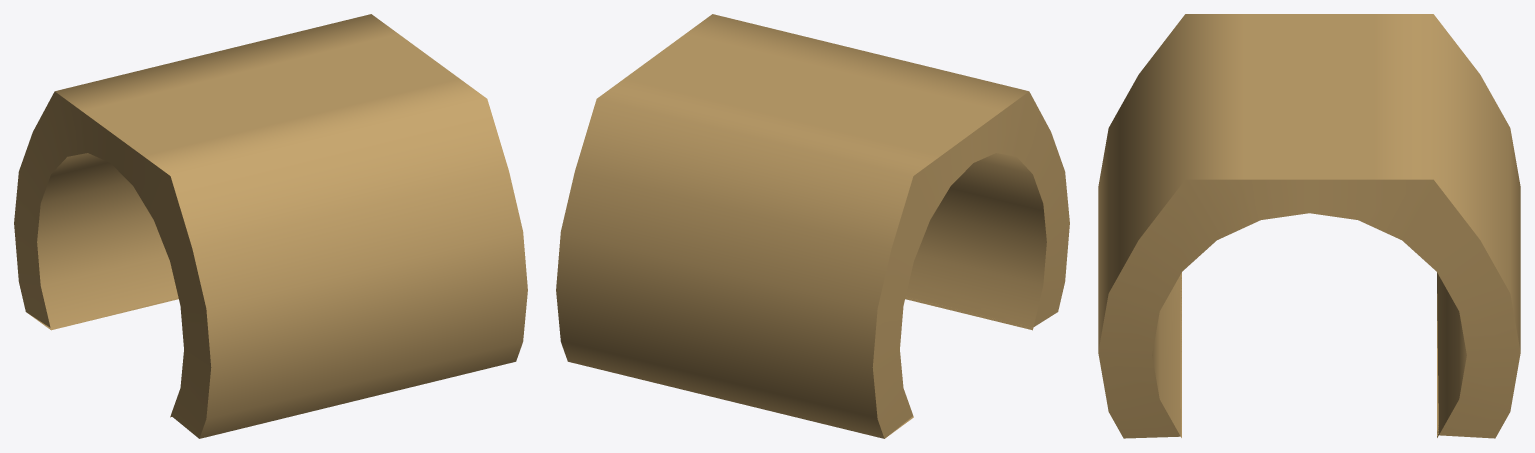
File: Tunnel.fbx
3 views of the same model, side by side, from view 1: azimuth 30°, elevation 25°; view 2: azimuth 150°, elevation 25°; view 3: azimuth 270°, elevation 25° (orthographic). The views are drawn at different scales.
Parts seen in each view (by area): view 1: Tunnel; view 2: Tunnel; view 3: Tunnel.
Boxes of the visible parts, bbox=[...] form: Tunnel: bbox=[14, 14, 527, 438]; Tunnel: bbox=[556, 14, 1069, 438]; Tunnel: bbox=[1098, 14, 1520, 438].
Size of the model in its own units: 12.63 by 9.01 by 13.32.
